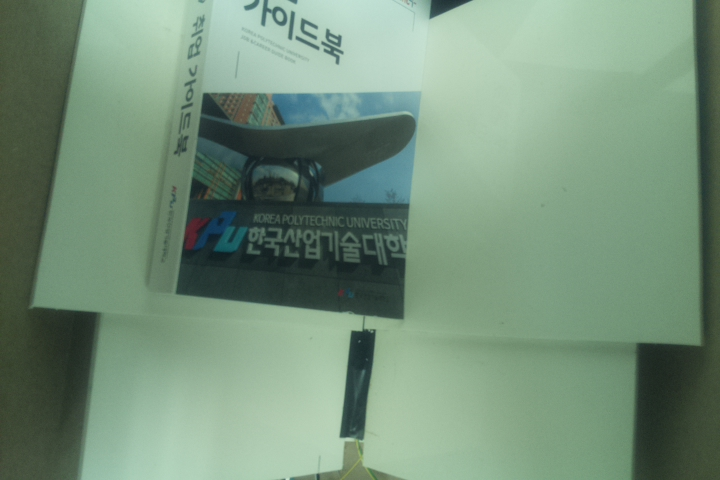book: (145, 1, 435, 328)
